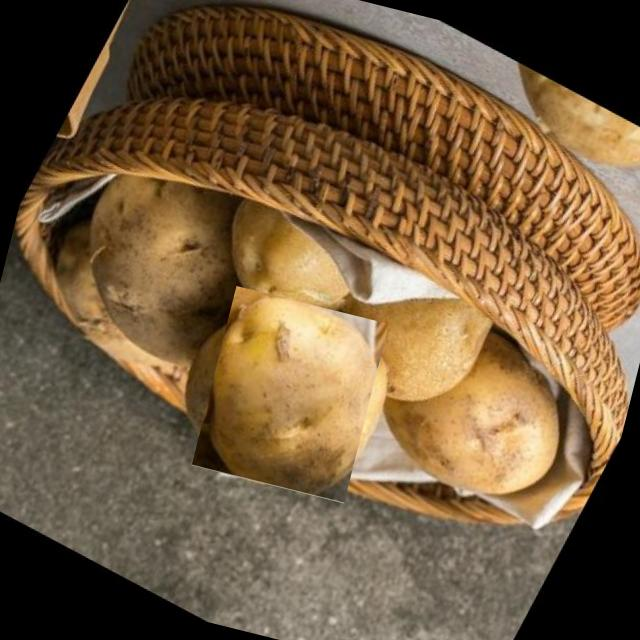potato: (185, 290, 394, 498)
